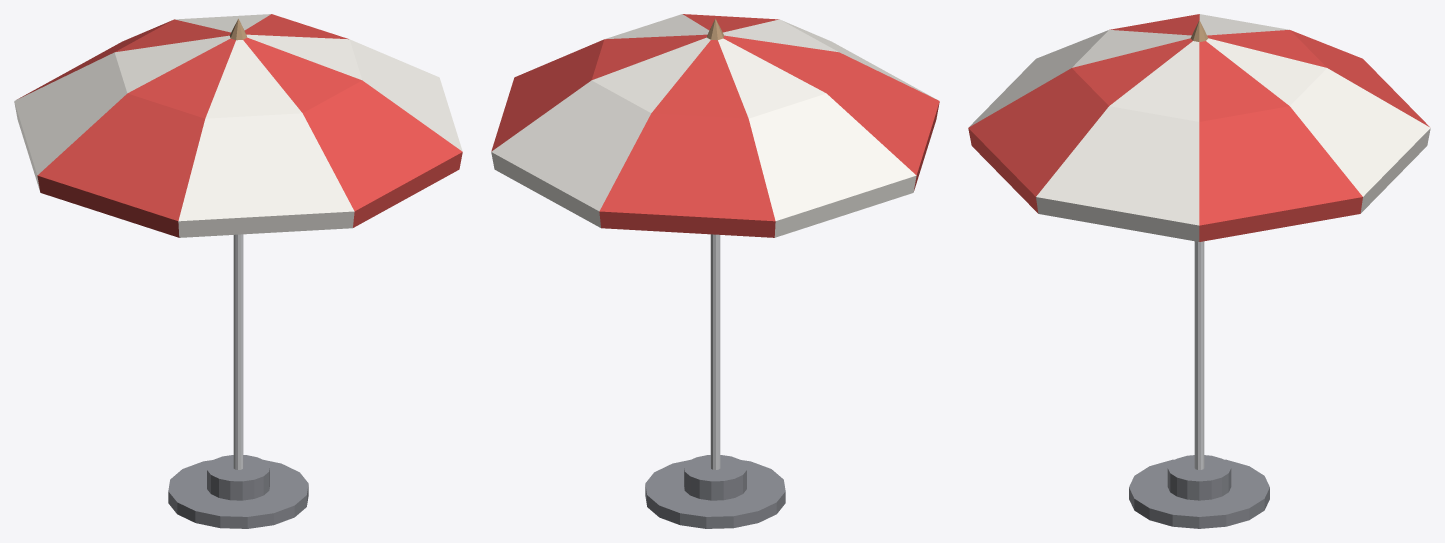
Rendered from th4_sonnenschirm.glb.
The picture shows the model from 3 angles, left to right: view 1: azimuth 30°, elevation 25°; view 2: azimuth 150°, elevation 25°; view 3: azimuth 270°, elevation 25°; orthographic projection.
Visible parts, largest first — view 1: Sonnenschirm; view 2: Sonnenschirm; view 3: Sonnenschirm.
Boxes of the visible parts, <box> form: Sonnenschirm: <box>14,14,462,528</box>; Sonnenschirm: <box>491,14,939,528</box>; Sonnenschirm: <box>968,14,1430,528</box>.
Bounding box in the file's own units: 2.1 × 2.4 × 2.1.
